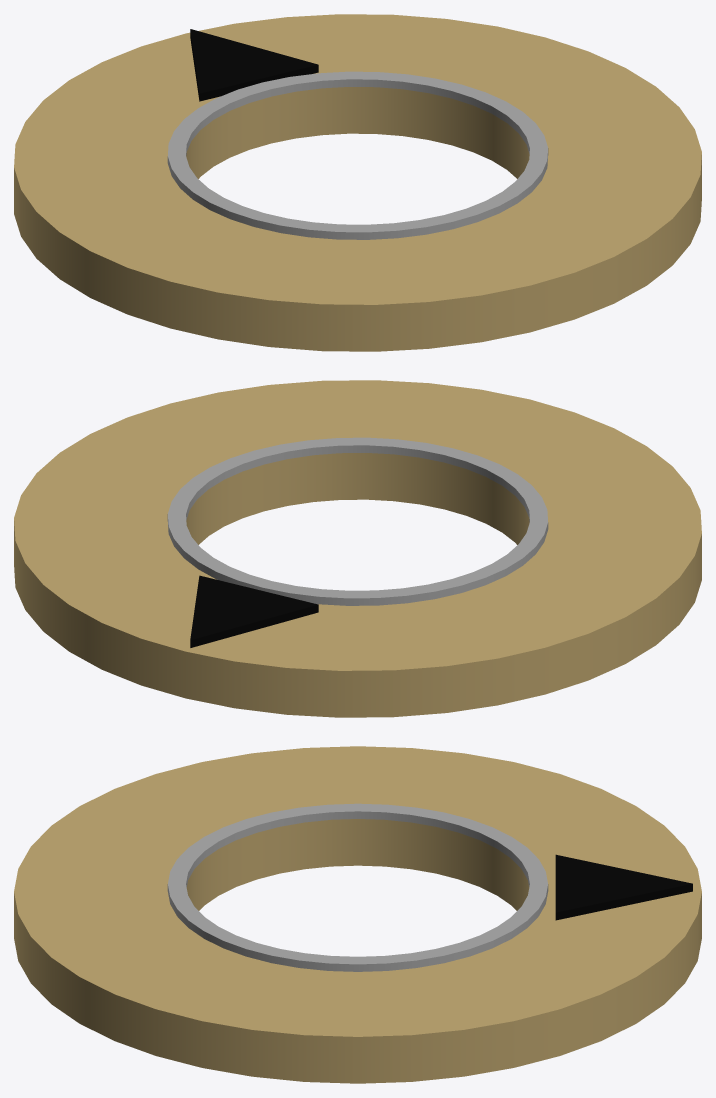
The model's file is Ring4.fbx.
3 renders of one model, top to bottom at view 1: azimuth 30°, elevation 25°; view 2: azimuth 150°, elevation 25°; view 3: azimuth 270°, elevation 25°, orthographic.
Visible parts, largest first — view 1: polySurface8; view 2: polySurface8; view 3: polySurface8.
Part boxes in pixels (bbox=[...]): polySurface8: bbox=[14, 14, 701, 351]; polySurface8: bbox=[14, 380, 701, 717]; polySurface8: bbox=[14, 746, 701, 1083].
Size of the model in its own units: 40 by 3.51 by 40.
